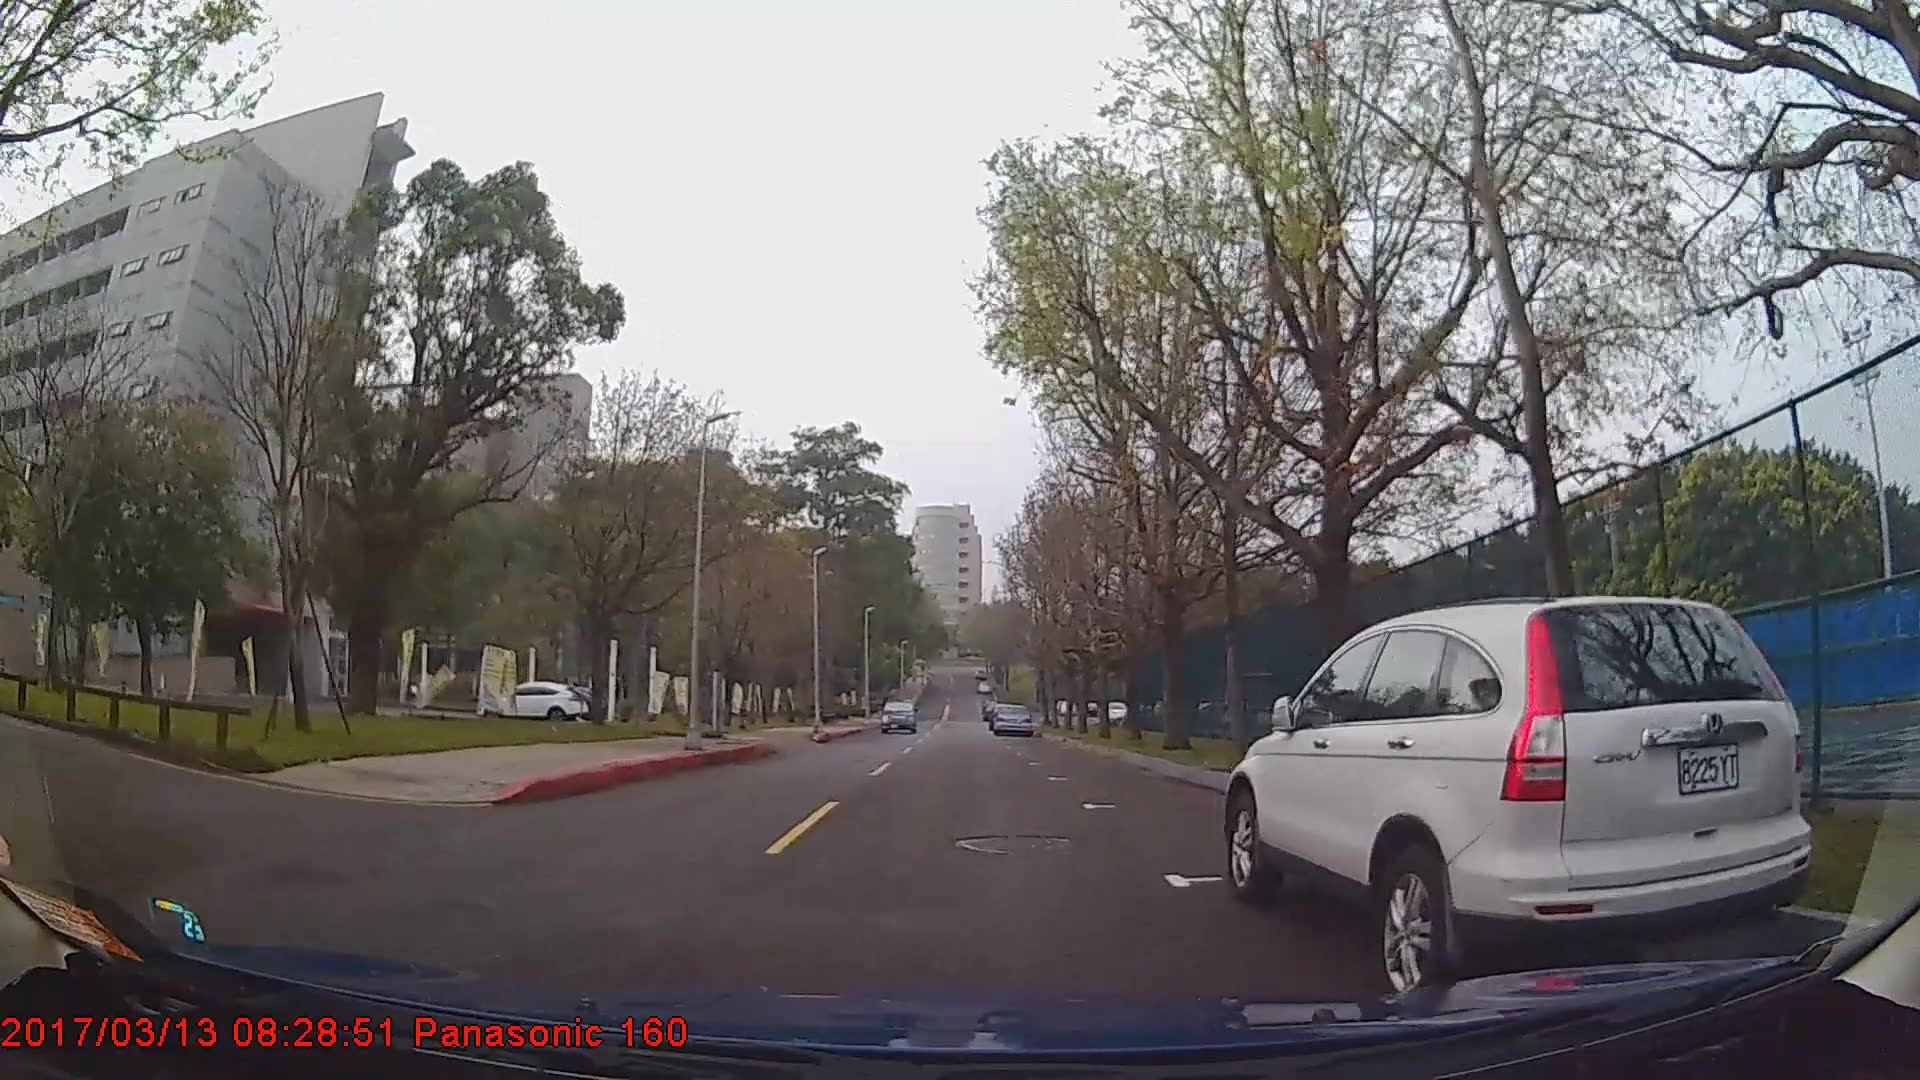vehicle: (1222, 593, 1816, 1004), (480, 679, 585, 723), (992, 699, 1031, 733), (880, 698, 915, 733)
